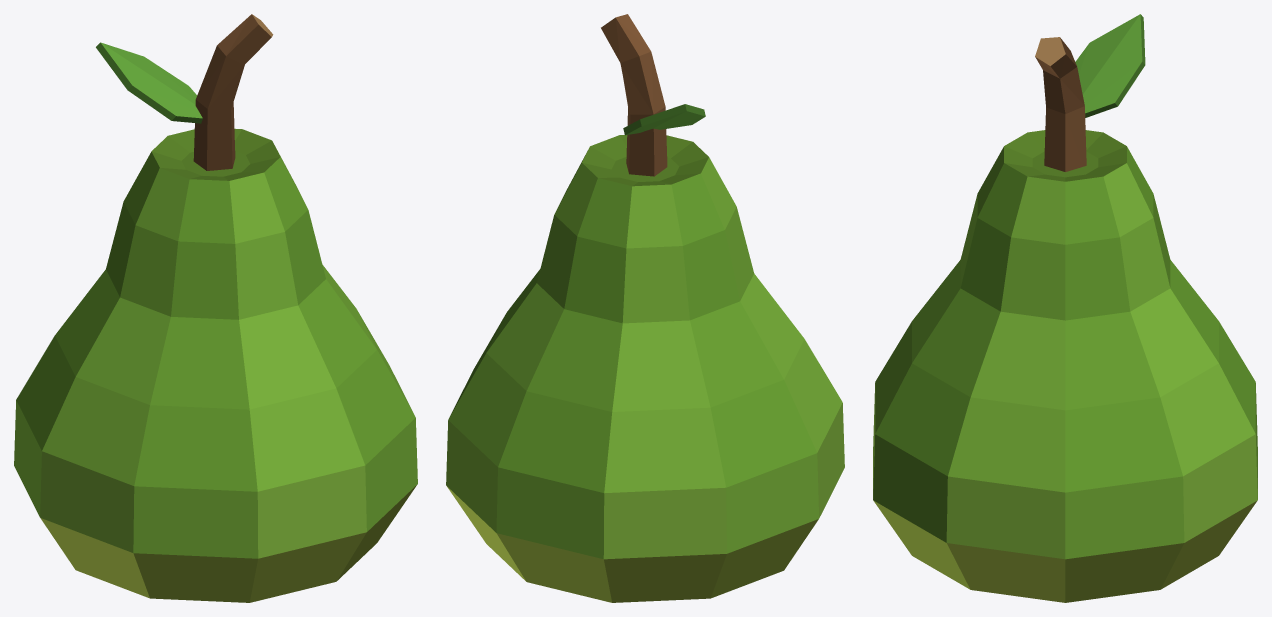
Rendered from FMS_Fruit_Pear.fbx.
3 views of the same model, side by side, from view 1: azimuth 30°, elevation 25°; view 2: azimuth 150°, elevation 25°; view 3: azimuth 270°, elevation 25° (orthographic).
Visible parts, largest first — view 1: item_produce_pear; view 2: item_produce_pear; view 3: item_produce_pear.
Boxes of the visible parts, x1,y1,x2,y2 form: item_produce_pear: (14, 14, 417, 602); item_produce_pear: (446, 14, 844, 602); item_produce_pear: (873, 14, 1257, 602).
Size of the model in its own units: 0.0752 by 0.1109 by 0.0715.
Materials: 1 (1 with a texture image).
